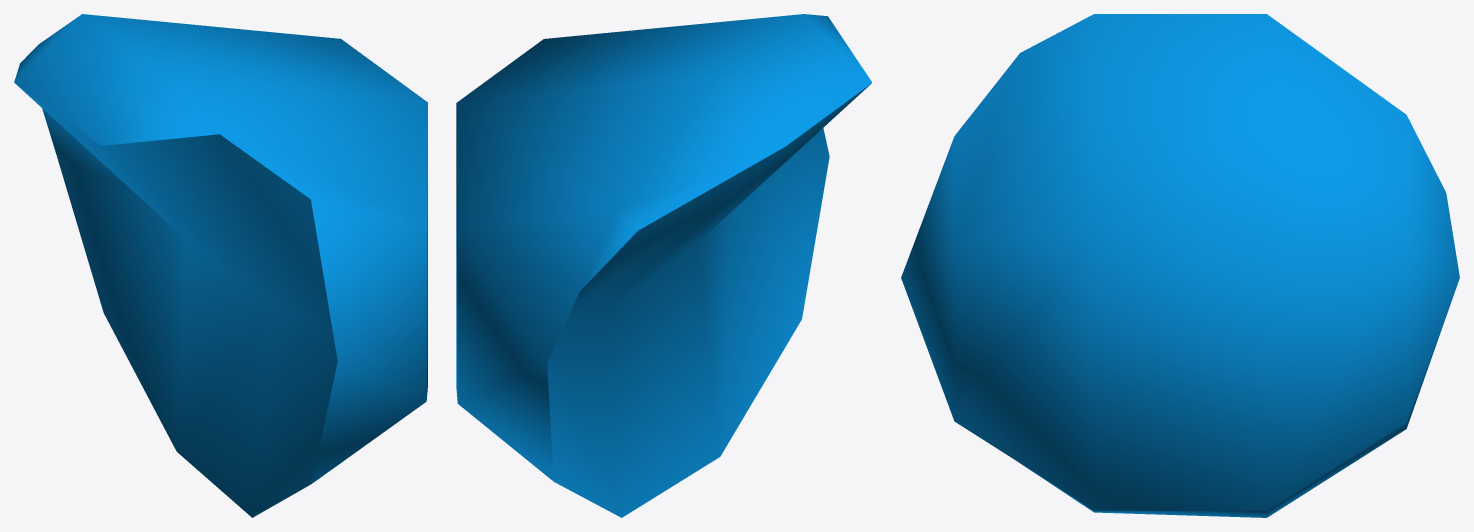
File: snowball_debris01.fbx
3 renders of one model, left to right at view 1: azimuth 30°, elevation 25°; view 2: azimuth 150°, elevation 25°; view 3: azimuth 270°, elevation 25°, orthographic.
Visible parts, largest first — view 1: snowball_debris01; view 2: snowball_debris01; view 3: snowball_debris01.
Part boxes in pixels (bbox=[...]): snowball_debris01: bbox=[14, 14, 427, 517]; snowball_debris01: bbox=[456, 14, 872, 517]; snowball_debris01: bbox=[901, 14, 1459, 517].
Bounding box in the file's own units: 0.2398 × 0.3228 × 0.3569.
